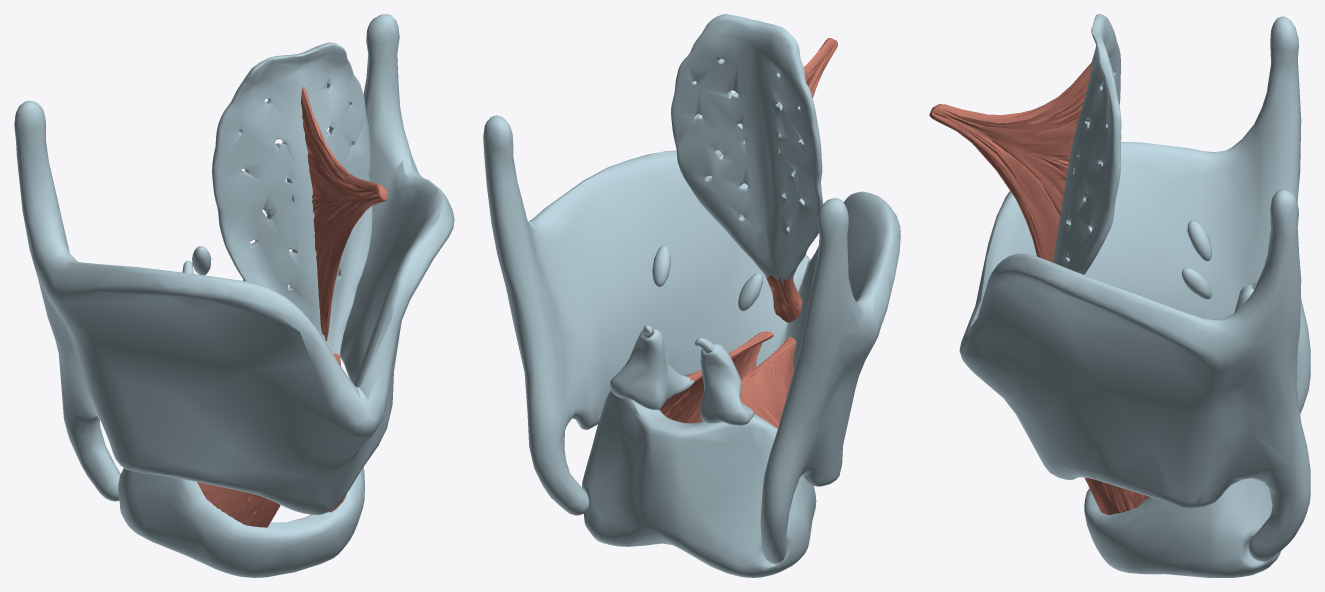
Rendered from respiratory.neck.glb.
The picture shows the model from 3 angles, left to right: view 1: azimuth 30°, elevation 25°; view 2: azimuth 150°, elevation 25°; view 3: azimuth 270°, elevation 25°; orthographic projection. The views are drawn at different scales.
Visible parts, largest first — view 1: thyroid_cartilage, epiglottis, cricoid_cartilage, hyo_epiglottic_ligament, right_conus_elasticus; view 2: thyroid_cartilage, epiglottis, cricoid_cartilage, left_arytenoid_cartilage, right_arytenoid_cartilage, right_conus_elasticus, left_conus_elasticus, thyro_epiglottic_ligament, hyo_epiglottic_ligament, right_cuneiform_cartilage, left_cuneiform_cartilage; view 3: thyroid_cartilage, cricoid_cartilage, hyo_epiglottic_ligament, epiglottis, left_conus_elasticus, right_cuneiform_cartilage, left_cuneiform_cartilage.
Part boxes in pixels (box(x1,y1,x2,y2)): thyroid_cartilage: box(14, 14, 454, 514); epiglottis: box(212, 42, 372, 355); cricoid_cartilage: box(118, 467, 364, 577); hyo_epiglottic_ligament: box(301, 86, 388, 341); right_conus_elasticus: box(197, 482, 280, 527); thyroid_cartilage: box(483, 115, 900, 564); epiglottis: box(671, 14, 822, 289); cricoid_cartilage: box(582, 391, 816, 577); left_arytenoid_cartilage: box(610, 328, 694, 410); right_arytenoid_cartilage: box(700, 343, 753, 425); right_conus_elasticus: box(740, 339, 796, 428); left_conus_elasticus: box(659, 333, 762, 423); thyro_epiglottic_ligament: box(765, 275, 802, 322); hyo_epiglottic_ligament: box(803, 38, 837, 97); right_cuneiform_cartilage: box(738, 273, 762, 311); left_cuneiform_cartilage: box(652, 245, 670, 286); thyroid_cartilage: box(959, 16, 1310, 561); cricoid_cartilage: box(1084, 478, 1280, 577); hyo_epiglottic_ligament: box(929, 62, 1091, 262); epiglottis: box(1053, 14, 1121, 274); left_conus_elasticus: box(1085, 477, 1149, 514); right_cuneiform_cartilage: box(1187, 220, 1211, 261); left_cuneiform_cartilage: box(1181, 267, 1211, 299).
Size of the model in its own units: 0.0387 by 0.051 by 0.0336.
